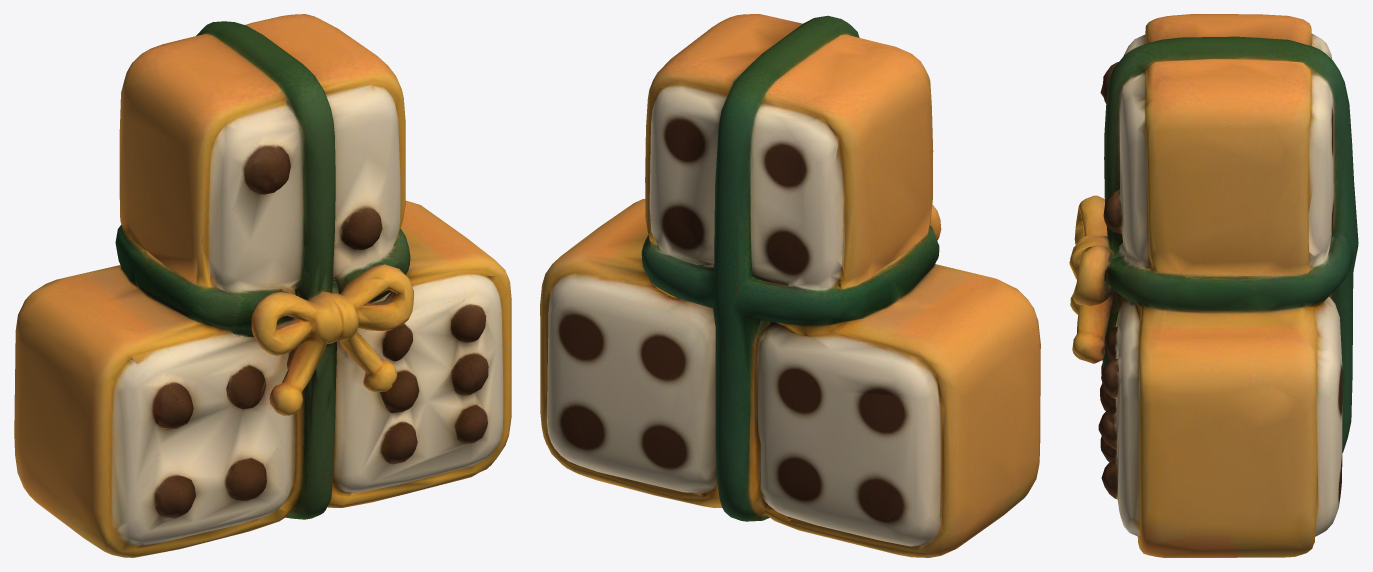
Rendered from item-dice-plus3.glb.
3 views of the same model, side by side, from view 1: azimuth 30°, elevation 25°; view 2: azimuth 150°, elevation 25°; view 3: azimuth 270°, elevation 25° (orthographic). The views are drawn at different scales.
Parts seen in each view (by area): view 1: Mesh_0; view 2: Mesh_0; view 3: Mesh_0.
Boxes of the visible parts, bbox=[...] form: Mesh_0: bbox=[14, 14, 511, 557]; Mesh_0: bbox=[540, 14, 1040, 557]; Mesh_0: bbox=[1069, 14, 1358, 557].
Bounding box in the file's own units: 1.93 × 2 × 1.18.
Materials: 1 (1 with a texture image).
